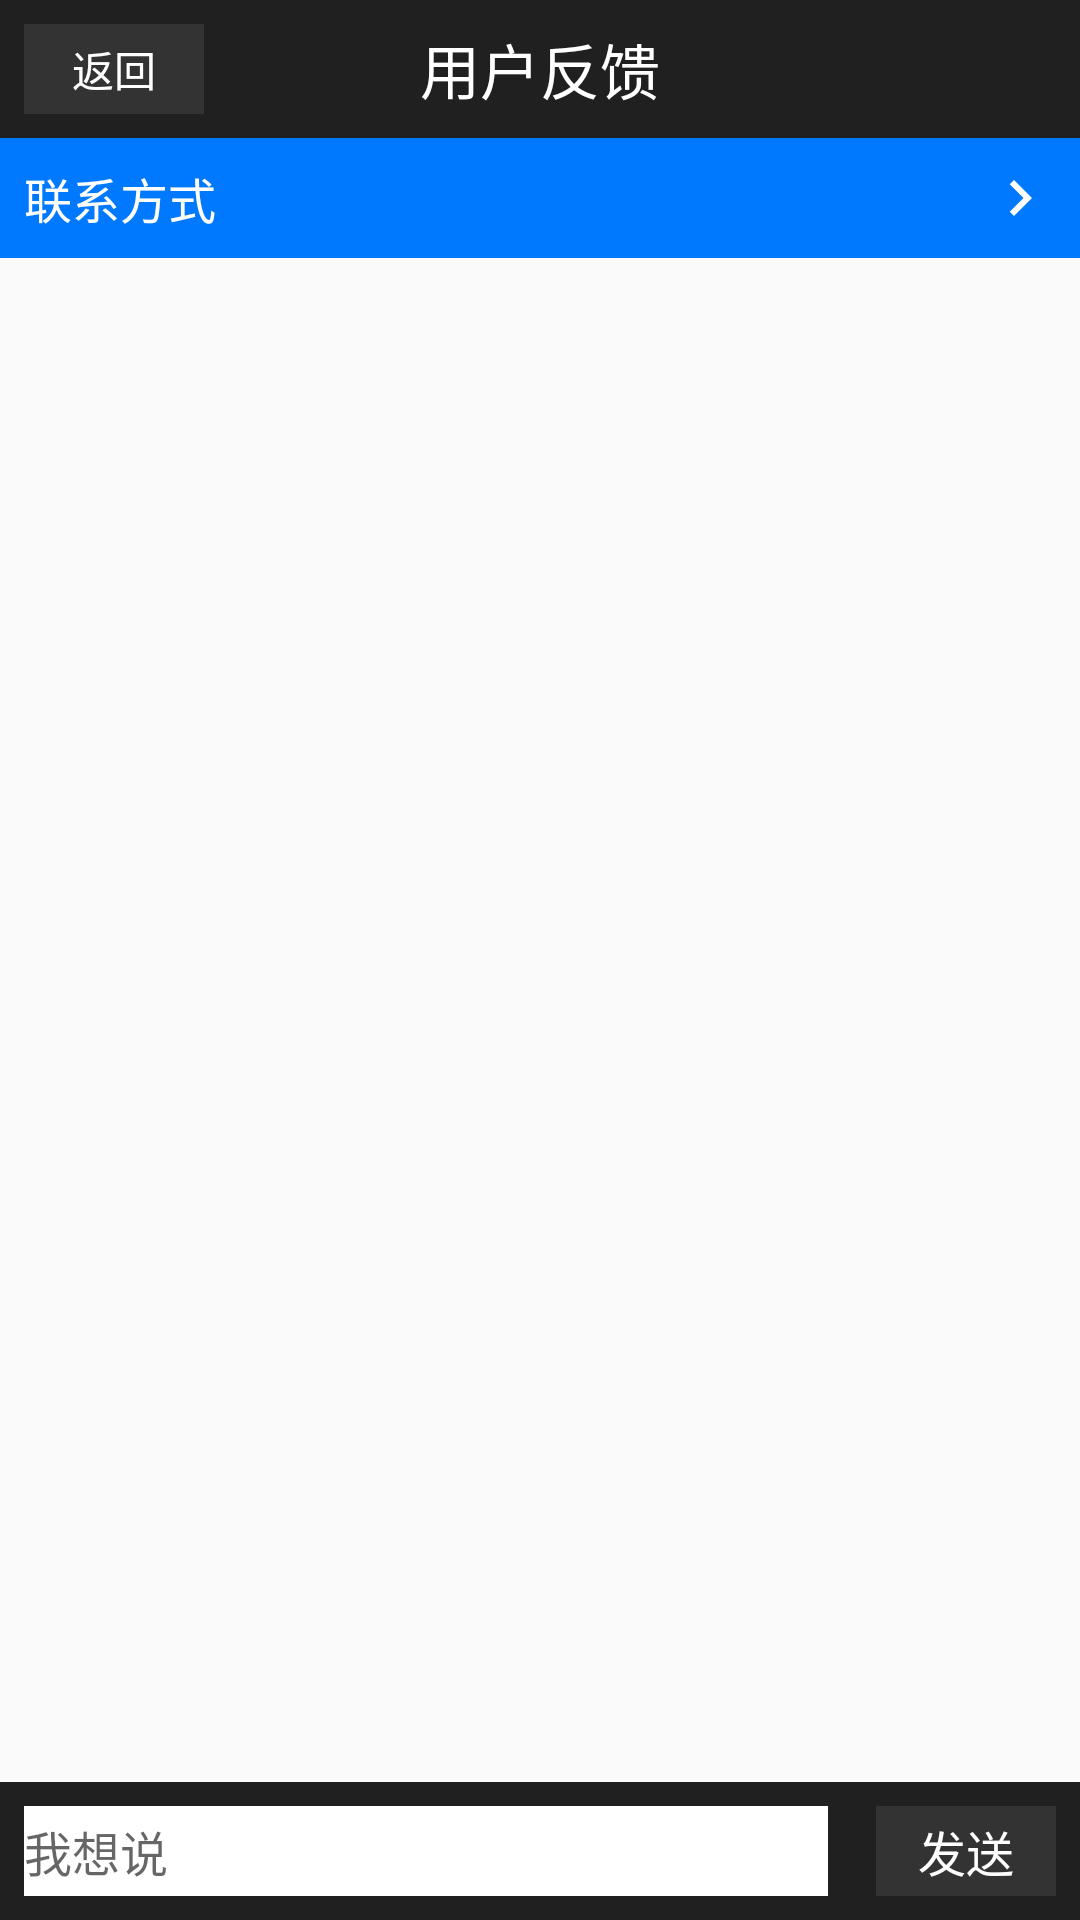

Icons on this 1080px×1920px Android screen, each with the point to tap as (x=x, y=y):
chevron right: (x=1021, y=198)
